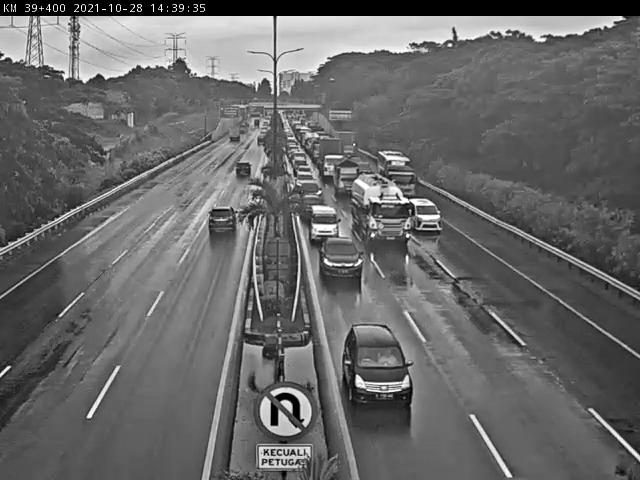big bus: (381, 152, 417, 193)
big truck: (348, 174, 408, 244)
car: (343, 324, 416, 402), (312, 232, 360, 270), (201, 201, 242, 243), (302, 200, 351, 234), (409, 198, 445, 230), (289, 171, 324, 196), (226, 158, 253, 184)
small truck: (329, 161, 364, 200)
